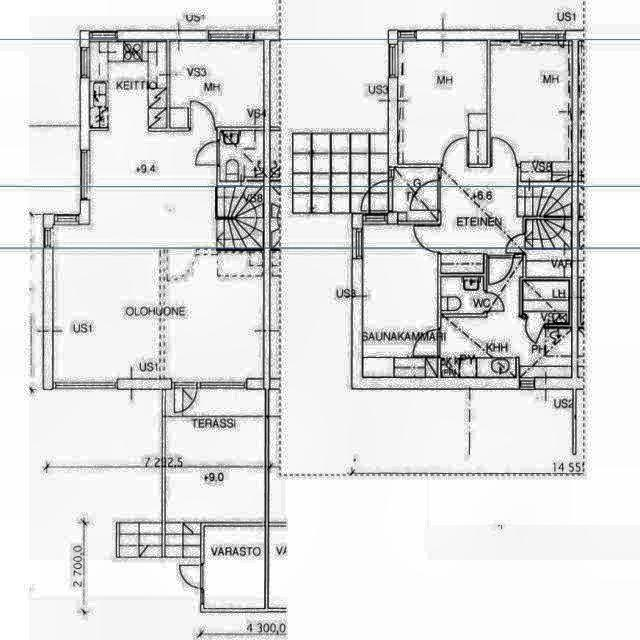room: (164, 251, 263, 382), (363, 225, 437, 376), (398, 41, 487, 164), (491, 42, 572, 163), (170, 42, 264, 127), (205, 526, 264, 608), (393, 168, 437, 220), (220, 131, 264, 181), (523, 281, 568, 324), (441, 277, 483, 313)
